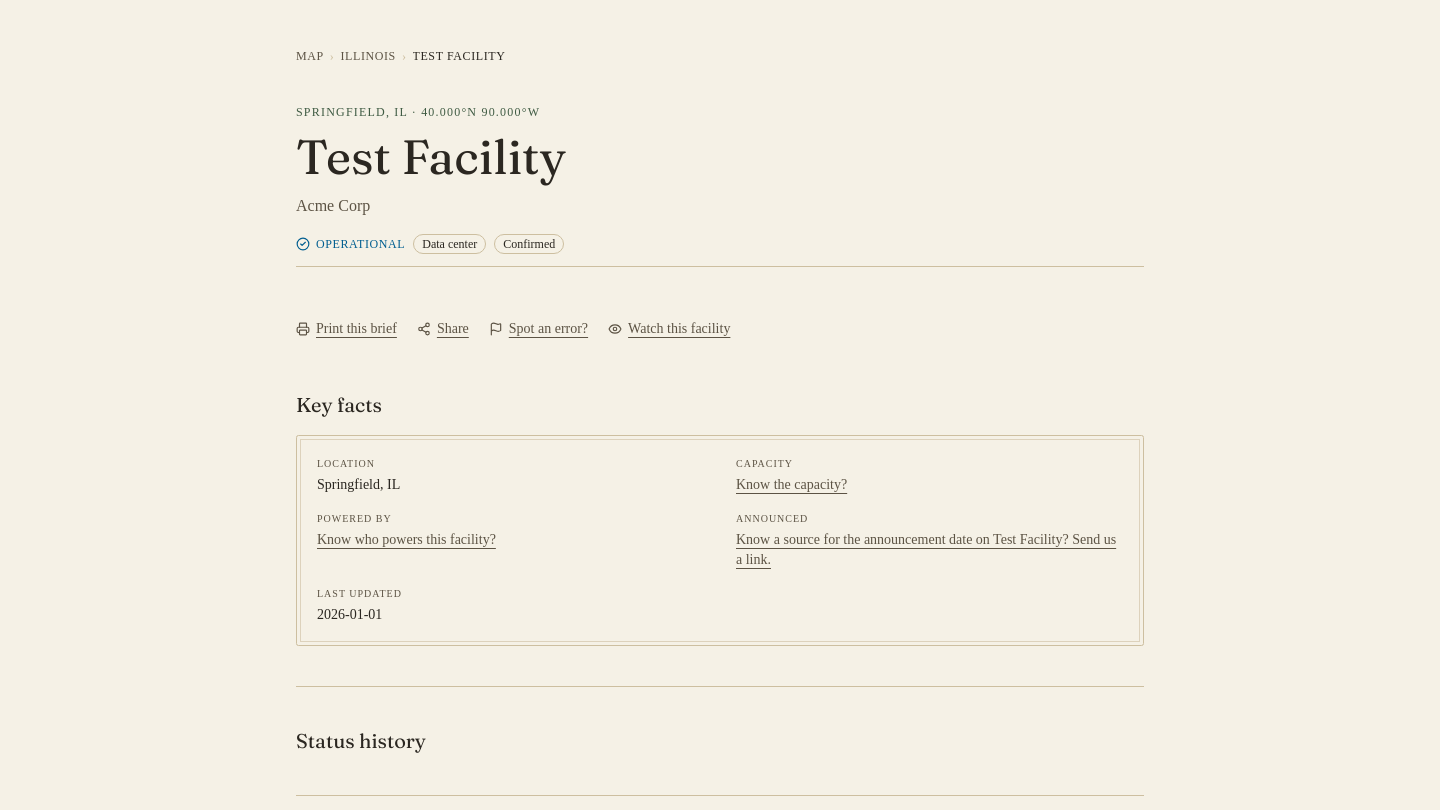
Scenario: FacilityPage — correction dialogs › an operational facility with no capacity opens 'Know the capacity?' on operational capacity
Click the button "Know the capacity?" at [792, 485], box [736, 475, 847, 495]
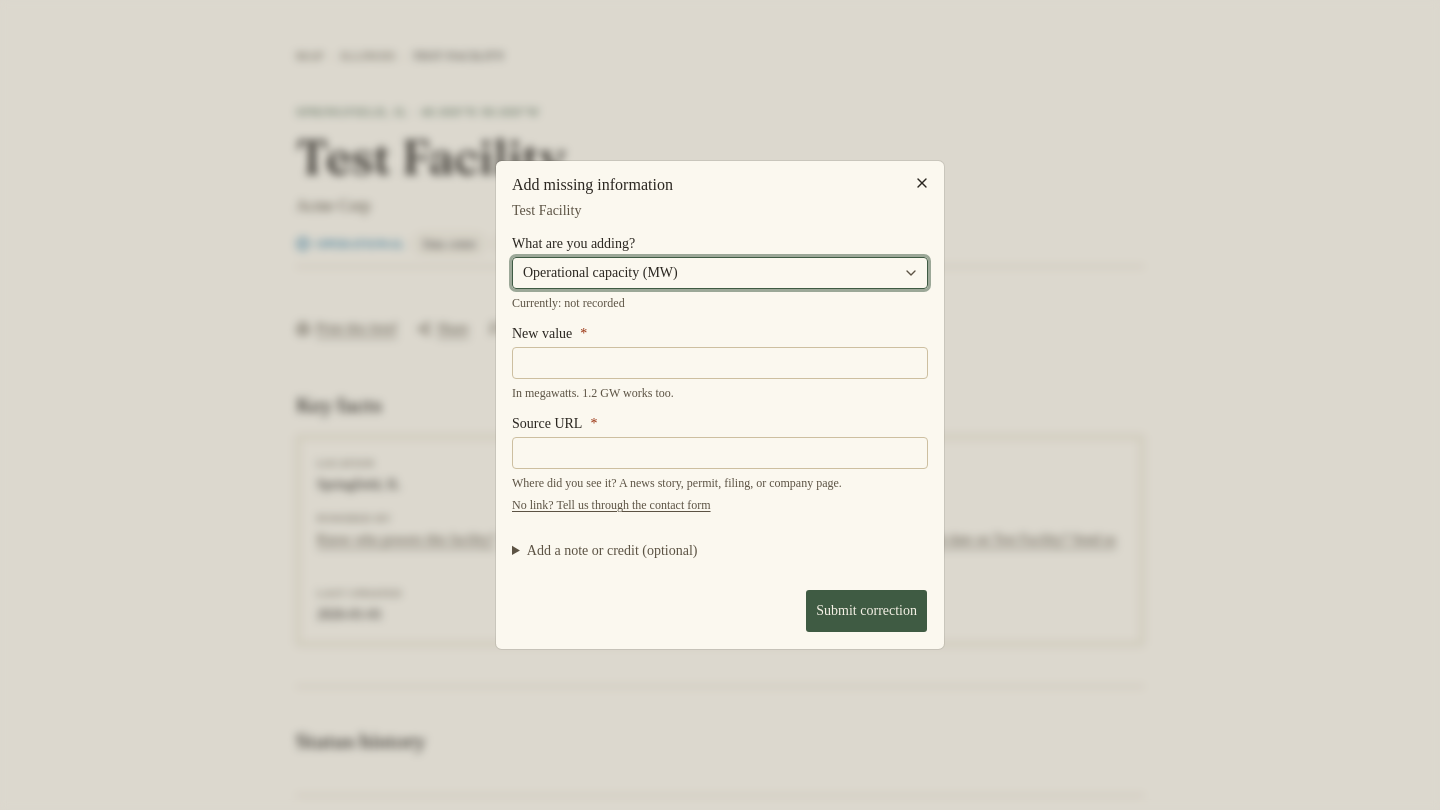
Result: the dropdown named "what are you adding" shows "Operational capacity (MW)" at [512, 257, 928, 289]
